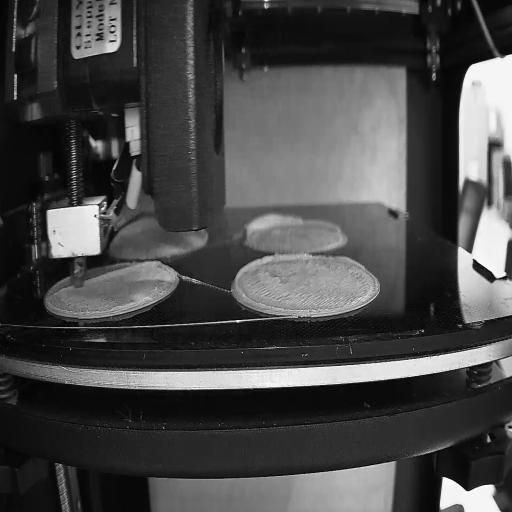over_extrusion: (234, 252, 316, 315), (236, 210, 303, 238), (85, 260, 157, 286), (306, 214, 342, 234), (328, 255, 365, 271), (51, 283, 73, 298)
